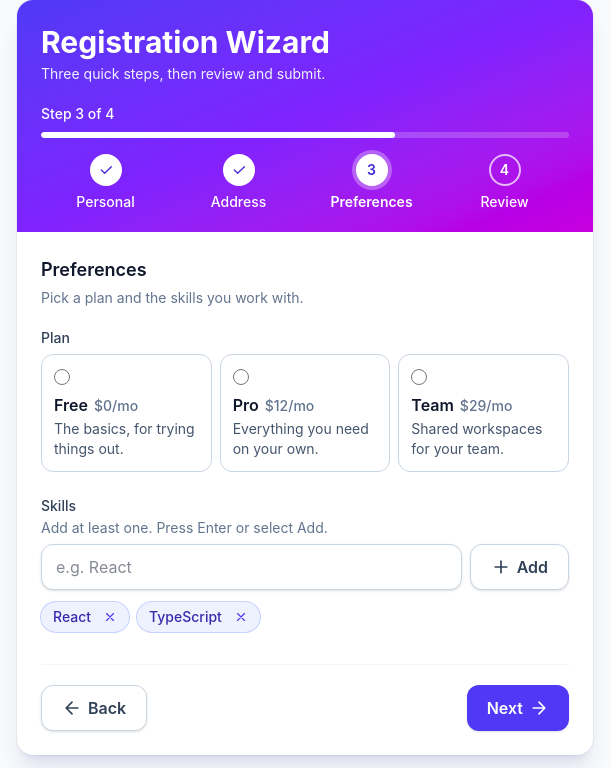
Test case: WizardPage › focuses the plan options when no plan is chosen
Click the button "Next".
click(518, 708)  # box top-left (467, 685), bottom-right (569, 731)
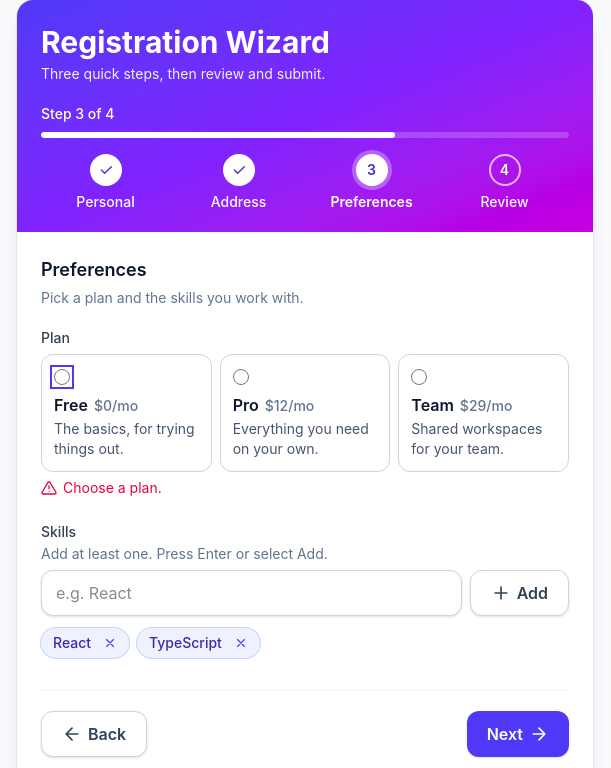
Check: the text "Choose a plan." is shown, box top-left (41, 479), bottom-right (162, 496)
